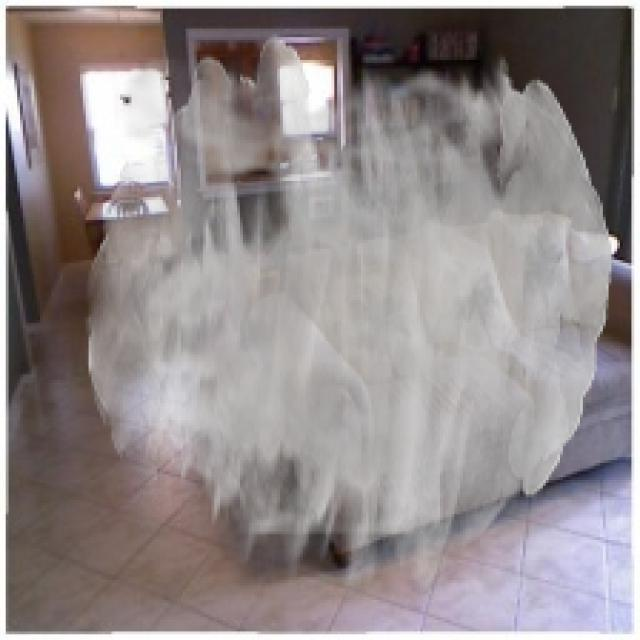Smoke: (86, 34, 612, 600)
